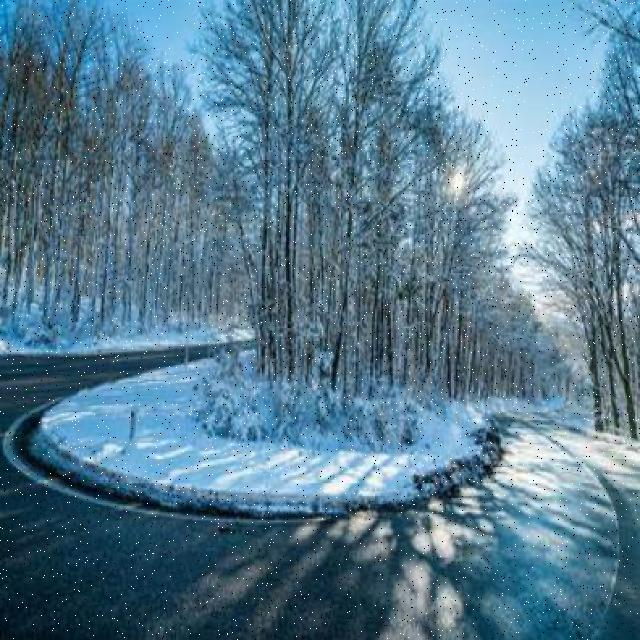ice-road: (0, 349, 640, 640)
